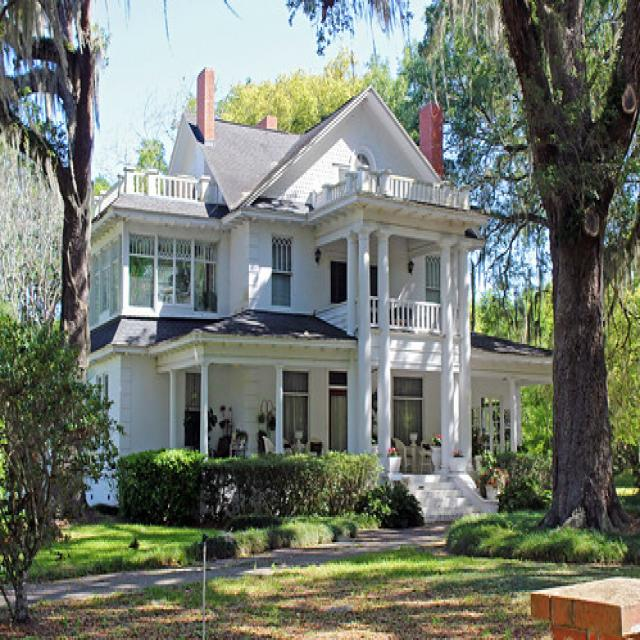Normal_building: (80, 80, 556, 522)
